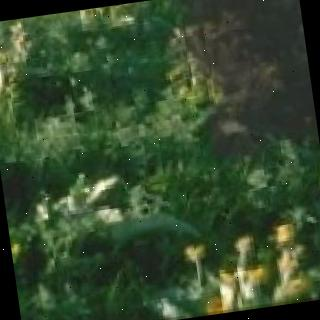smoke: (200, 0, 315, 130)
